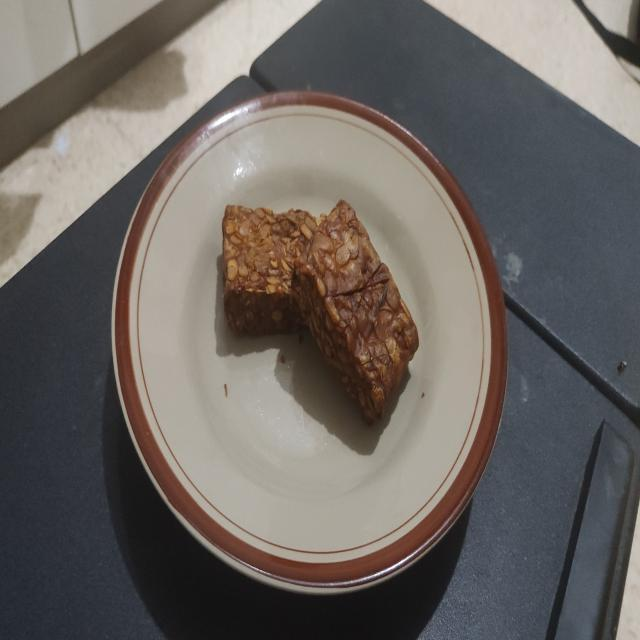tempe_goreng: (294, 200, 420, 426), (221, 205, 318, 341)
